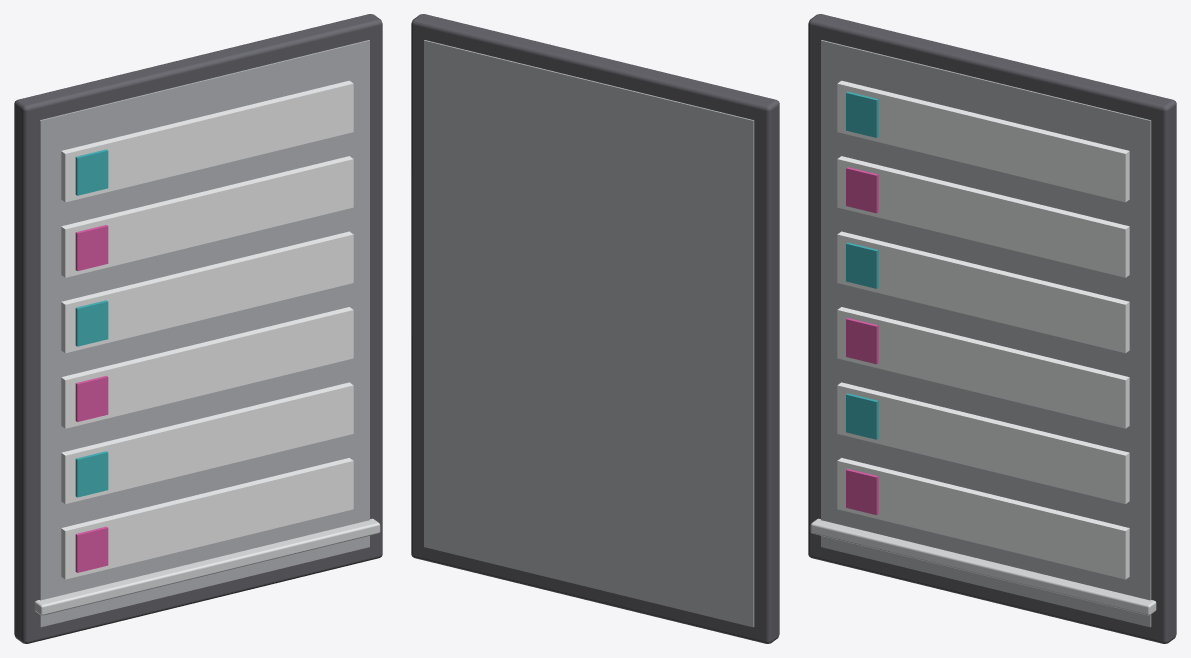
File: tattoo-and-piercing-studio-price-board-480dde11.glb
The picture shows the model from 3 angles, left to right: view 1: azimuth 30°, elevation 25°; view 2: azimuth 150°, elevation 25°; view 3: azimuth 330°, elevation 25°; orthographic projection.
Visible parts, largest first — view 1: price-board; view 2: price-board; view 3: price-board.
Part boxes in pixels (x1,y1,x2,y2): price-board: (14, 14, 382, 643); price-board: (411, 14, 779, 643); price-board: (808, 14, 1176, 643).
Bounding box in the file's own units: 0.7 × 1 × 0.066.
